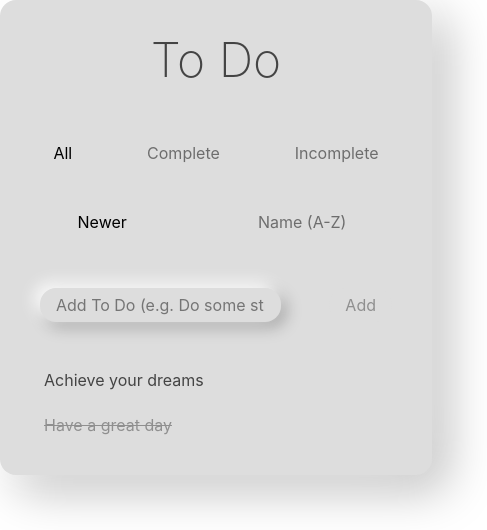
can view all incomplete To Dos
Click the button named "Filter by Incomplete".
click(337, 153)  # box [289,143,384,164]
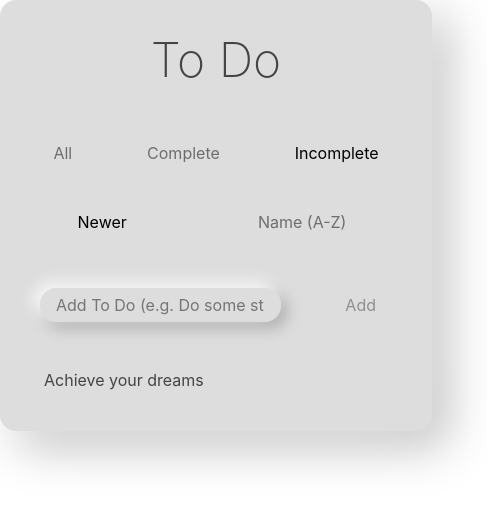
Now the text "Have a great day" is gone
